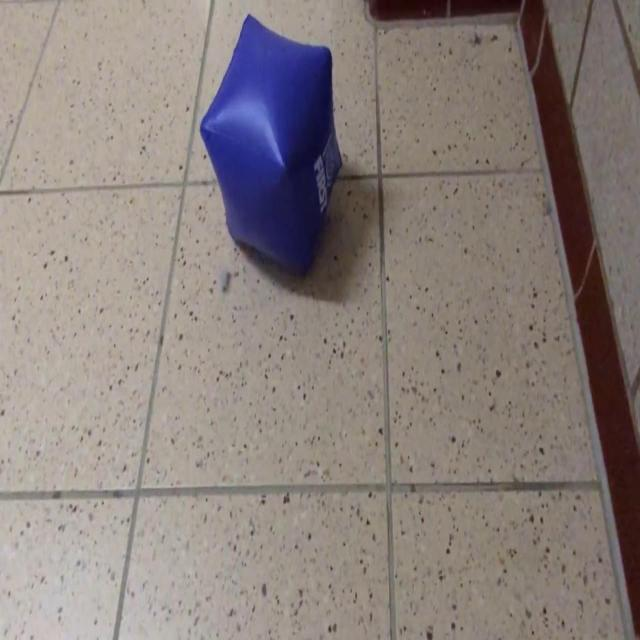frc_cube: (201, 12, 343, 276)
